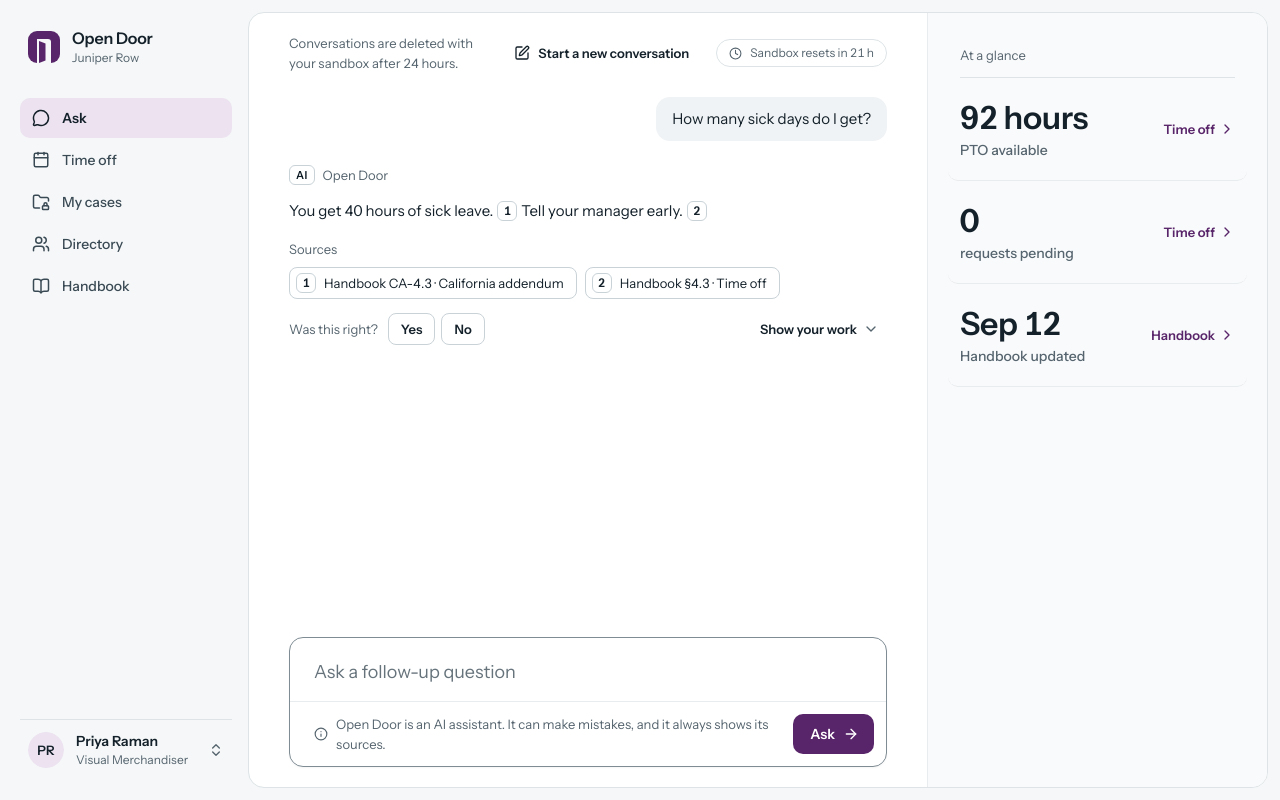
Scenario: the docked panel (a wide window) › closes when the same marker is pressed again, and puts focus back on it
Click the button named "Source 1: Handbook CA-4.3, California addendum". click: (507, 211)
box: [497,201,517,221]
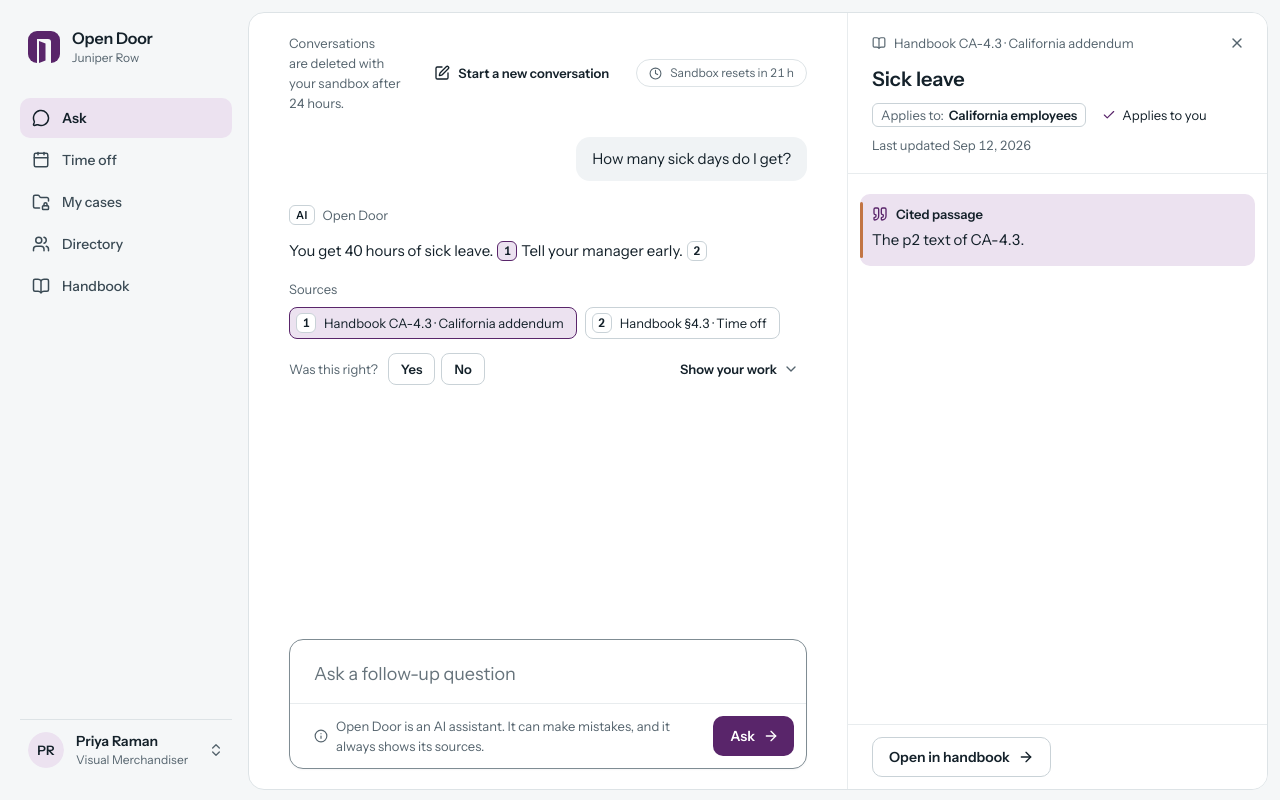
Click the button named "Source 1: Handbook CA-4.3, California addendum". click: (507, 251)
box: [497,241,517,261]
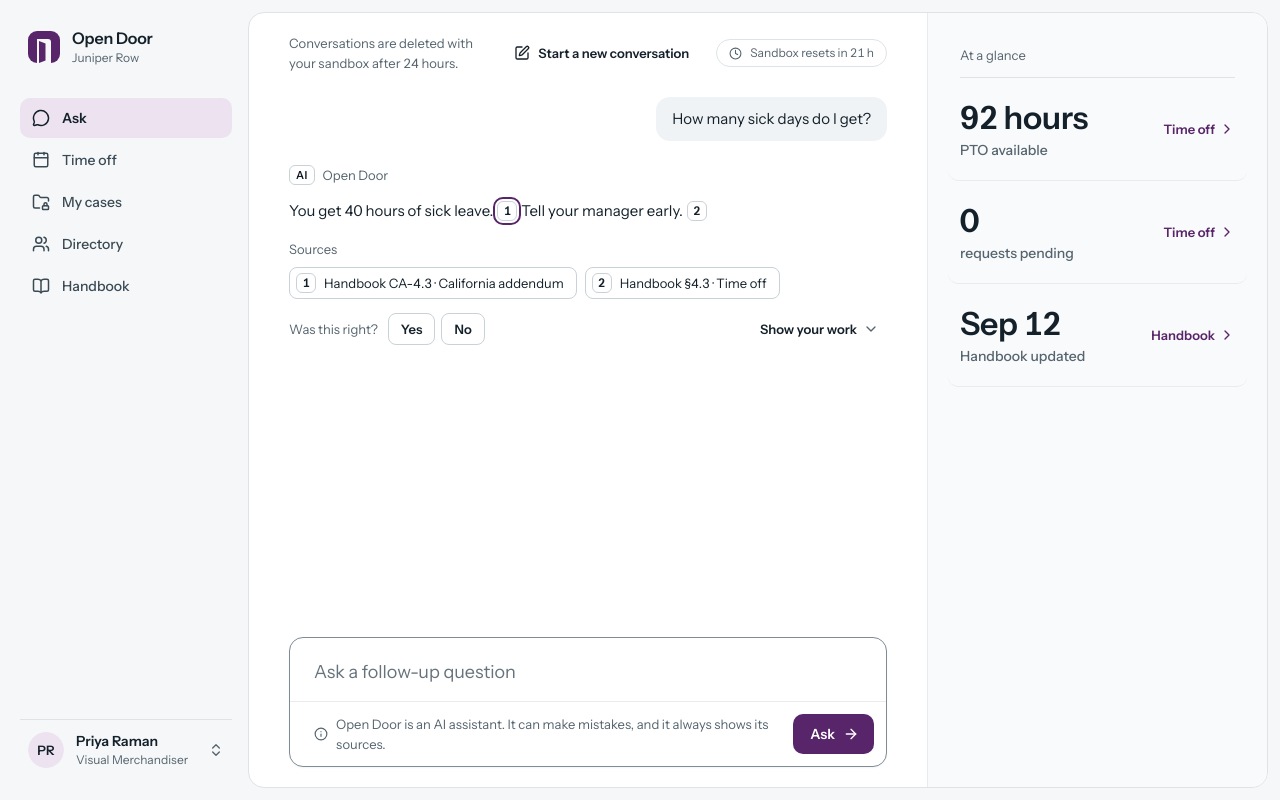
expect the element named "Sandbox status" is shown: met, box [927,13,1267,787]
